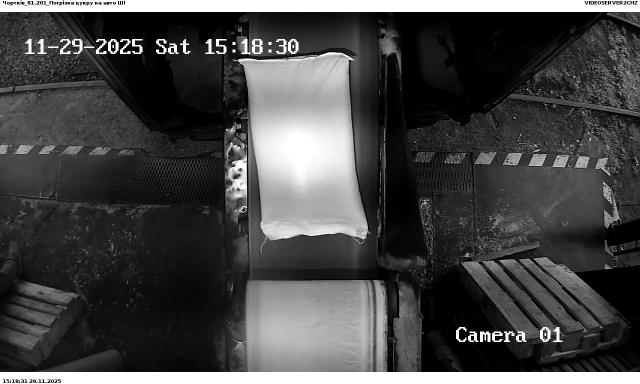bag: (238, 52, 370, 240)
